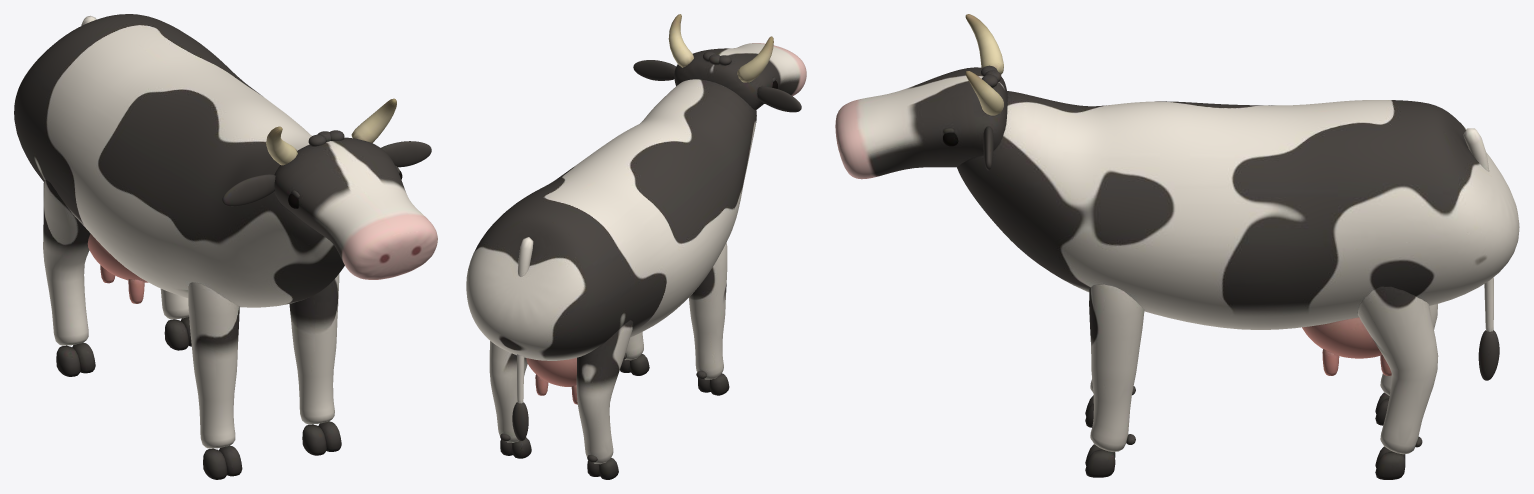
The model's file is animal_cow_hd.glb.
The picture shows the model from 3 angles, left to right: view 1: azimuth 30°, elevation 25°; view 2: azimuth 150°, elevation 25°; view 3: azimuth 270°, elevation 25°; orthographic projection. The views are drawn at different scales.
Parts seen in each view (by area): view 1: animal_cow_hd, head, leg0, leg2, leg1, leg3; view 2: animal_cow_hd, head, leg2, leg0, leg3, tail, leg1; view 3: animal_cow_hd, head, leg3, leg1, tail.
Boxes of the visible parts, x1=… form: animal_cow_hd: x1=14, y1=14, x2=344, y2=307; head: x1=222, y1=98, x2=437, y2=279; leg0: x1=188, y1=282, x2=242, y2=479; leg2: x1=43, y1=180, x2=95, y2=376; leg1: x1=289, y1=274, x2=341, y2=455; leg3: x1=160, y1=289, x2=191, y2=350; animal_cow_hd: x1=466, y1=79, x2=756, y2=404; head: x1=633, y1=14, x2=806, y2=112; leg2: x1=576, y1=320, x2=633, y2=479; leg0: x1=689, y1=243, x2=729, y2=395; leg3: x1=489, y1=341, x2=531, y2=458; tail: x1=512, y1=237, x2=533, y2=440; leg1: x1=620, y1=332, x2=649, y2=375; animal_cow_hd: x1=957, y1=91, x2=1519, y2=375; head: x1=835, y1=14, x2=1007, y2=179; leg3: x1=1357, y1=286, x2=1438, y2=479; leg1: x1=1085, y1=284, x2=1144, y2=477; tail: x1=1463, y1=128, x2=1499, y2=380.
Size of the model in its own units: 0.2773 by 0.5041 by 0.7711.
Materials: 1 (1 with a texture image).
